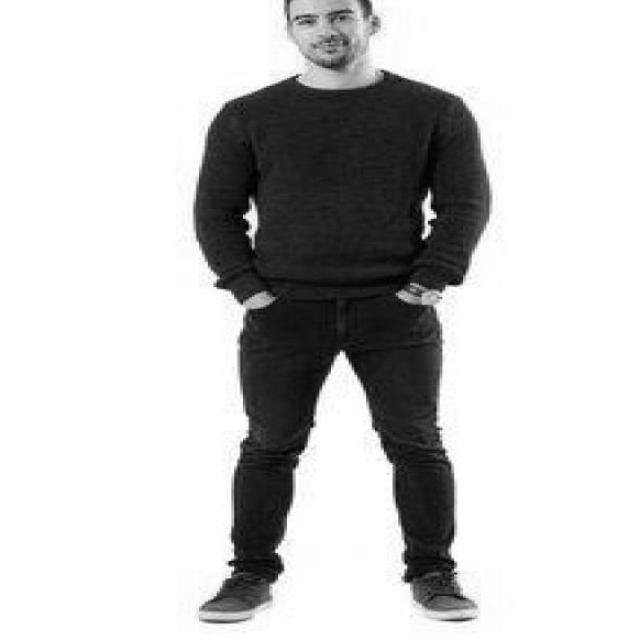person: (187, 2, 475, 634)
